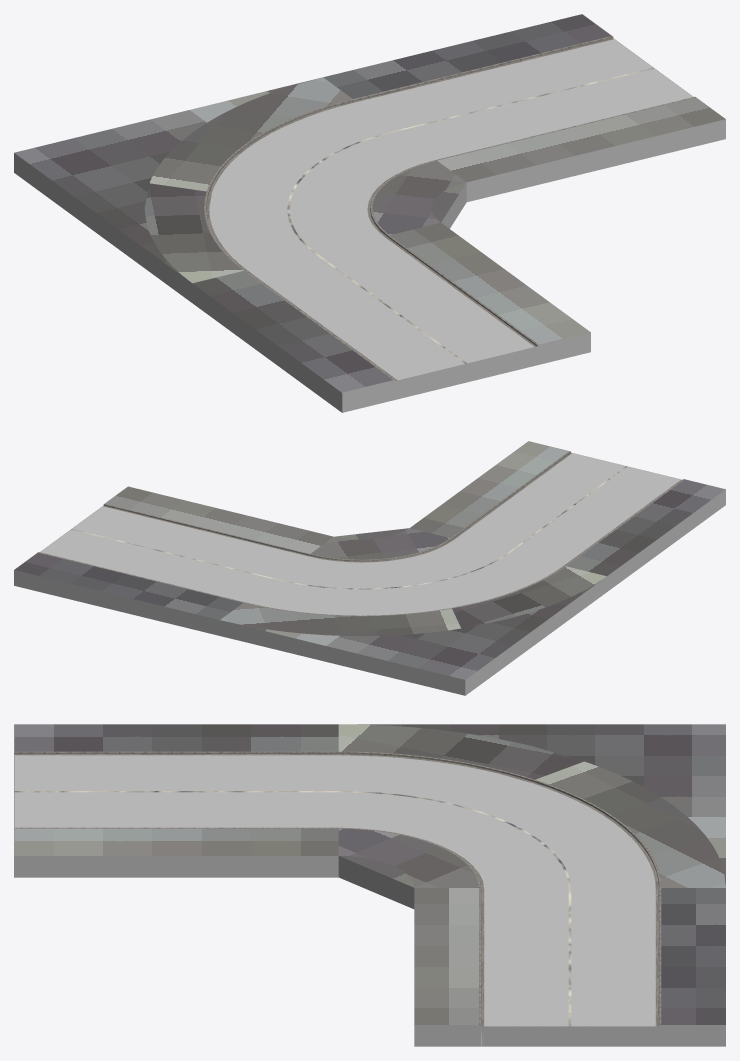
The model's file is Road_01a_r.fbx.
3 views of the same model, one above another, from view 1: azimuth 30°, elevation 25°; view 2: azimuth 150°, elevation 25°; view 3: azimuth 270°, elevation 25° (orthographic). The views are drawn at different scales.
Visible parts, largest first — view 1: Road_01a_r; view 2: Road_01a_r; view 3: Road_01a_r.
Boxes of the visible parts, x1,y1,x2,y2 form: Road_01a_r: [14, 14, 725, 412]; Road_01a_r: [14, 441, 725, 695]; Road_01a_r: [14, 724, 725, 1046].
Size of the model in its own units: 64 by 2.16 by 64.01.
